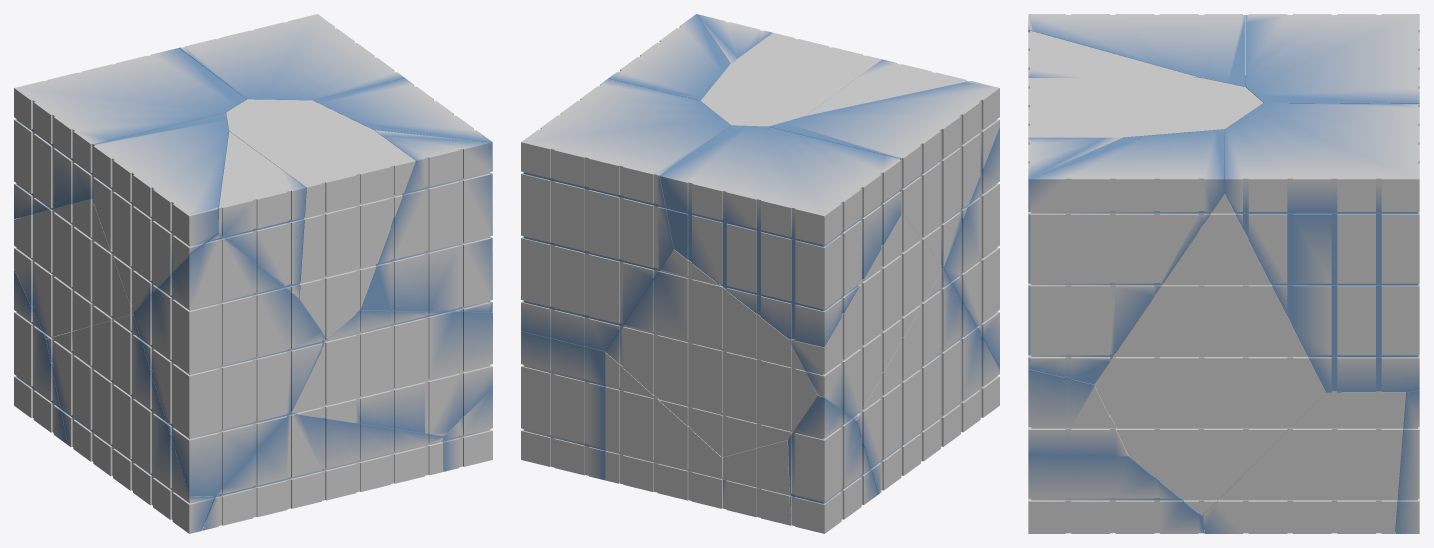
File: Building_D.glb
The picture shows the model from 3 angles, left to right: view 1: azimuth 30°, elevation 25°; view 2: azimuth 150°, elevation 25°; view 3: azimuth 270°, elevation 25°; orthographic projection. The views are drawn at different scales.
Visible parts, largest first — view 1: Building_D_Base_cell.016, Building_D_Base_cell.018, Building_D_Base_cell.011, Building_D_Base_cell.004, Building_D_Base_cell.017, Building_D_Base_cell.014, Building_D_Base_cell.007, Building_D_Base_cell.009, Building_D_Base_cell.001, Building_D_Base_cell.008, Building_D_Base_cell.005, Building_D_Base_cell.006 (+2 smaller); view 2: Building_D_Base_cell.011, Building_D_Base_cell.001, Building_D_Base_cell.010, Building_D_Base_cell.014, Building_D_Base_cell.007, Building_D_Base_cell.008, Building_D_Base_cell.015, Building_D_Base_cell.013, Building_D_Base_cell.018, Building_D_Base_cell.002, Building_D_Base_cell.016, Building_D_Base_cell.006 (+3 smaller); view 3: Building_D_Base_cell.001, Building_D_Base_cell.003, Building_D_Base_cell.006, Building_D_Base_cell, Building_D_Base_cell.011, Building_D_Base_cell.018, Building_D_Base_cell.012, Building_D_Base_cell.014, Building_D_Base_cell.004, Building_D_Base_cell.005, Building_D_Base_cell.015, Building_D_Base_cell.017.
Part boxes in pixels (x1,y1,x2,y2): Building_D_Base_cell.016: (133, 233, 327, 496); Building_D_Base_cell.018: (226, 99, 415, 338); Building_D_Base_cell.011: (14, 48, 246, 219); Building_D_Base_cell.004: (290, 310, 492, 436); Building_D_Base_cell.017: (360, 130, 492, 311); Building_D_Base_cell.014: (93, 112, 228, 312); Building_D_Base_cell.007: (46, 314, 215, 533); Building_D_Base_cell.009: (202, 412, 443, 530); Building_D_Base_cell.001: (179, 14, 404, 100); Building_D_Base_cell.008: (14, 199, 133, 338); Building_D_Base_cell.005: (218, 131, 306, 297); Building_D_Base_cell.006: (313, 78, 492, 311); Building_D_Base_cell.011: (660, 125, 901, 347); Building_D_Base_cell.001: (521, 78, 730, 351); Building_D_Base_cell.010: (605, 249, 817, 457); Building_D_Base_cell.014: (769, 81, 999, 266); Building_D_Base_cell.007: (856, 268, 999, 494); Building_D_Base_cell.008: (788, 214, 943, 420); Building_D_Base_cell.015: (521, 331, 606, 480); Building_D_Base_cell.013: (605, 352, 722, 508); Building_D_Base_cell.018: (701, 32, 881, 126); Building_D_Base_cell.002: (788, 396, 878, 533); Building_D_Base_cell.016: (941, 127, 999, 367); Building_D_Base_cell.006: (608, 14, 730, 100); Building_D_Base_cell.001: (1224, 103, 1419, 392); Building_D_Base_cell.003: (1094, 192, 1325, 515); Building_D_Base_cell.006: (1028, 129, 1224, 384); Building_D_Base_cell: (1202, 391, 1405, 533); Building_D_Base_cell.011: (1246, 14, 1419, 103); Building_D_Base_cell.018: (1028, 78, 1263, 137); Building_D_Base_cell.012: (1028, 455, 1204, 533); Building_D_Base_cell.014: (1028, 14, 1245, 86); Building_D_Base_cell.004: (1028, 369, 1128, 456); Building_D_Base_cell.005: (1028, 30, 1200, 77); Building_D_Base_cell.015: (1395, 390, 1419, 533); Building_D_Base_cell.017: (1028, 137, 1122, 368).
Size of the model in its own units: 2 by 2 by 2.
